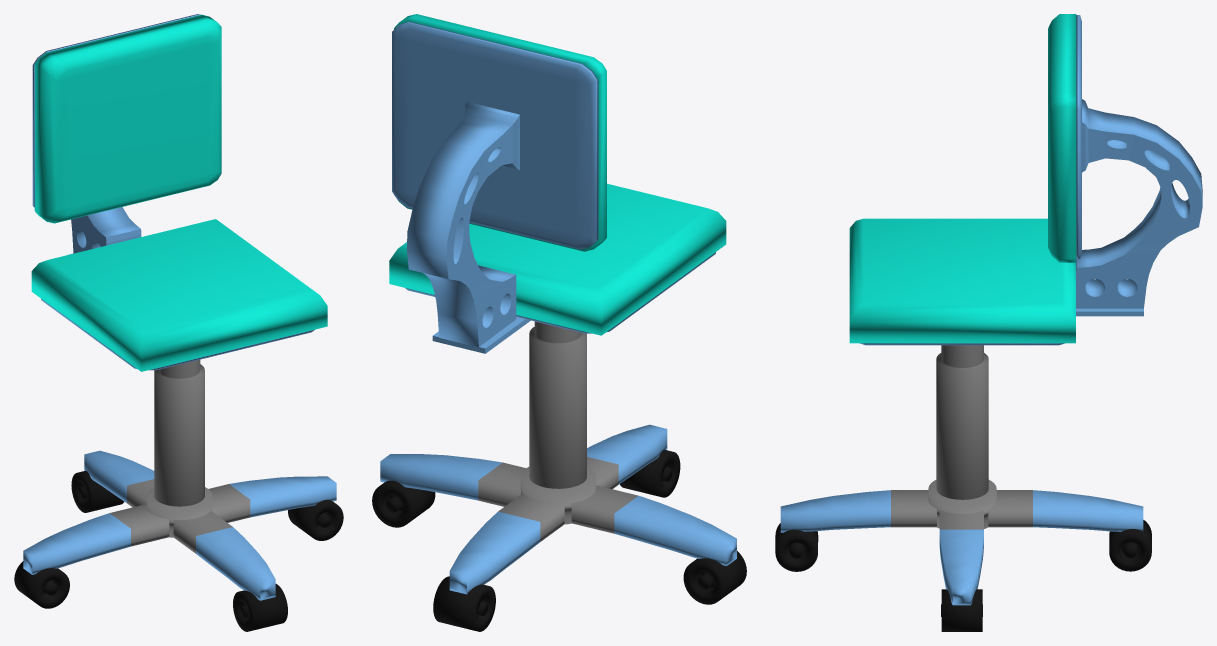
Rendered from chair_tier11.fbx.
3 views of the same model, side by side, from view 1: azimuth 30°, elevation 25°; view 2: azimuth 150°, elevation 25°; view 3: azimuth 270°, elevation 25° (orthographic). The views are drawn at different scales.
Parts seen in each view (by area): view 1: Cube.007, Cube, Cube.002, Cube.001, Cylinder.001, Cube.006, Cylinder.005, Cylinder.004, Cylinder.003, Cylinder.006, Cylinder.002, Cube.005 (+2 smaller); view 2: Cube.005, Cube, Cube.006, Cube.002, Cube.001, Cylinder.001, Cube.007, Cylinder.006, Cylinder.004, Cylinder.003, Cylinder.005, Cylinder.002 (+3 smaller); view 3: Cube, Cube.006, Cube.001, Cylinder.001, Cube.007, Cube.002, Cylinder.006, Cylinder.005, Cube.005, Cylinder.003, Cylinder.002, Cylinder (+2 smaller).
Part boxes in pixels (box(x1,y1,x2,y2)): Cube.007: box(34, 14, 221, 223); Cube: box(31, 219, 327, 371); Cube.002: box(23, 476, 336, 574); Cube.001: box(84, 450, 275, 600); Cylinder.001: box(154, 364, 204, 506); Cube.006: box(71, 207, 141, 253); Cylinder.005: box(233, 584, 287, 631); Cylinder.004: box(14, 561, 69, 608); Cylinder.003: box(288, 499, 343, 540); Cylinder.006: box(71, 470, 124, 512); Cylinder.002: box(146, 487, 212, 537); Cube.005: box(32, 14, 200, 207); Cube.005: box(392, 21, 598, 249); Cube: box(389, 183, 726, 335); Cube.006: box(406, 101, 519, 347); Cube.002: box(380, 454, 736, 565); Cube.001: box(449, 424, 667, 594); Cylinder.001: box(529, 327, 586, 488); Cube.007: box(394, 14, 606, 251); Cylinder.006: box(433, 576, 495, 631); Cylinder.004: box(683, 551, 746, 604); Cylinder.003: box(372, 480, 435, 527); Cylinder.005: box(619, 449, 680, 497); Cylinder.002: box(520, 466, 595, 524); Cube: box(849, 218, 1075, 343); Cube.006: box(1076, 99, 1202, 308); Cube.001: box(780, 490, 1143, 532); Cylinder.001: box(936, 353, 988, 499); Cube.007: box(1048, 14, 1076, 262); Cube.002: box(939, 510, 983, 605); Cylinder.006: box(1109, 520, 1151, 571); Cylinder.005: box(775, 523, 818, 571); Cube.005: box(1076, 15, 1081, 258); Cylinder.003: box(941, 589, 982, 631); Cylinder.002: box(928, 480, 996, 528); Cylinder: box(941, 345, 983, 367).
Size of the model in its own units: 70.78 by 108 by 82.
